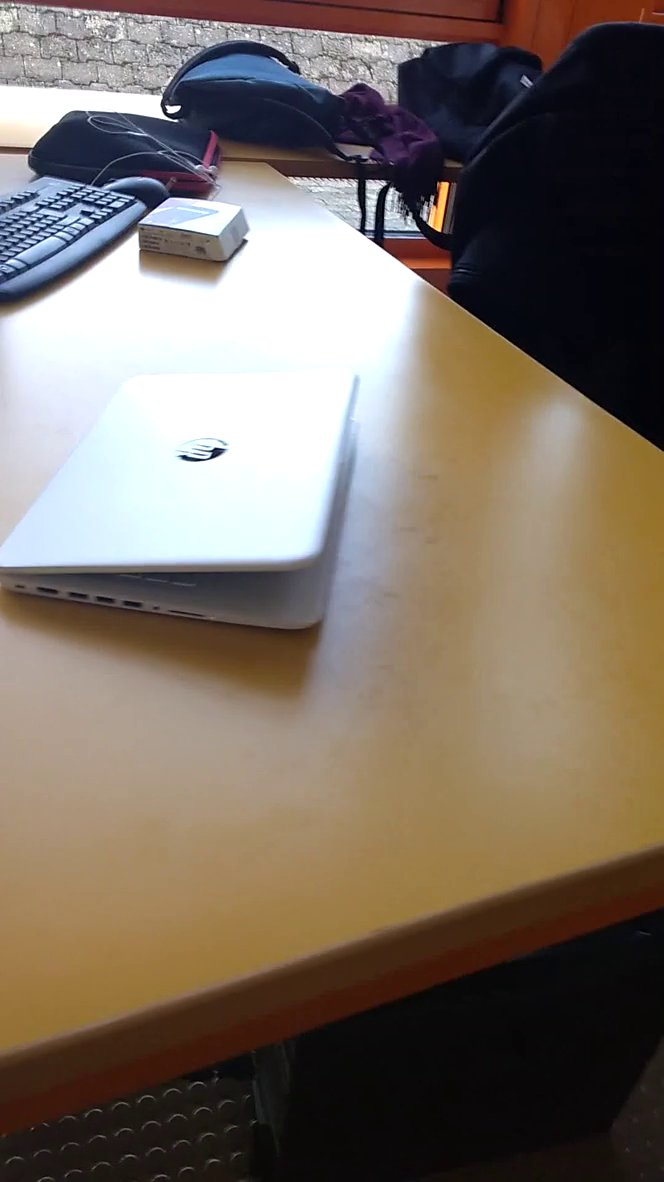bag: (151, 33, 360, 166)
laptop: (1, 347, 410, 672)
